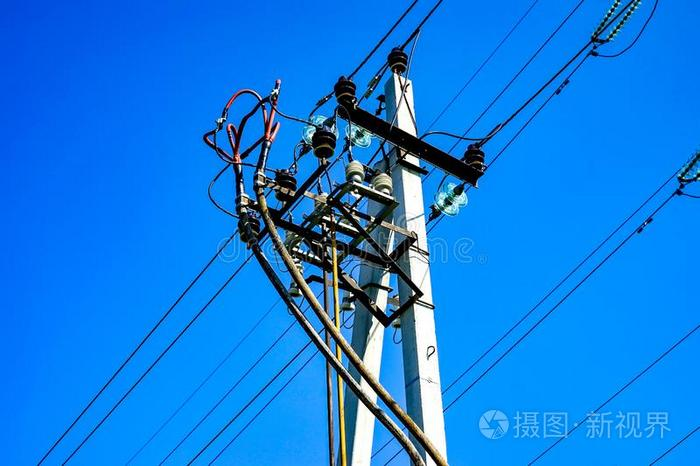insulator: (430, 178, 470, 217), (343, 122, 374, 148)
